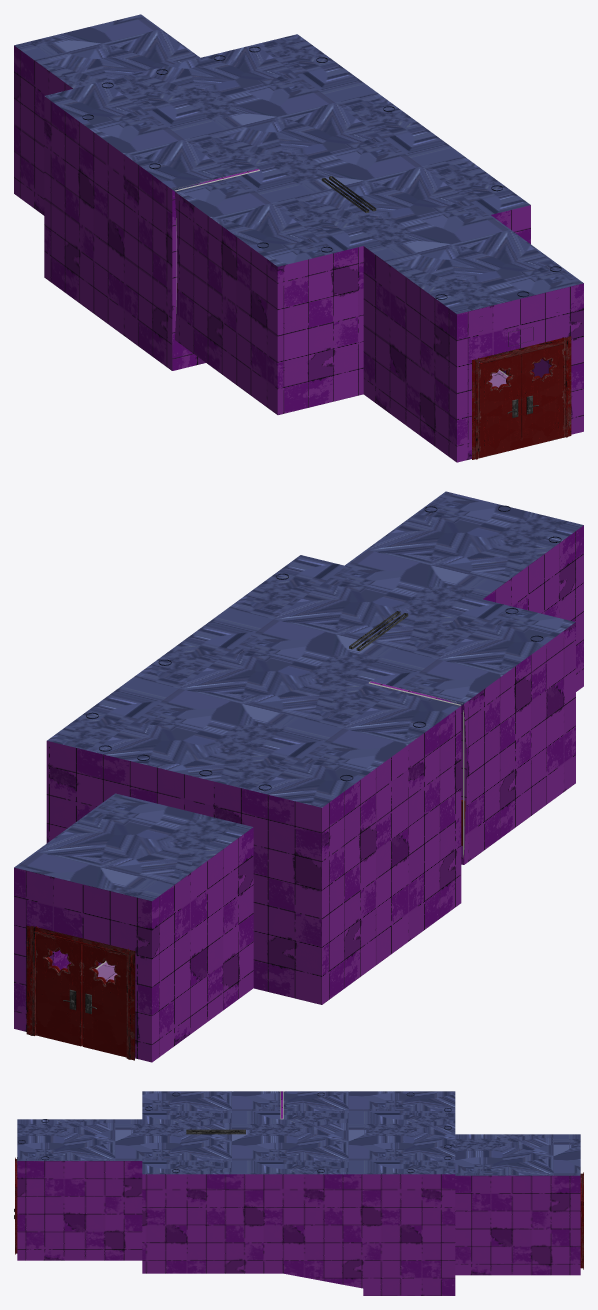
Rendered from Level7_P.fbx.
3 renders of one model, top to bottom at view 1: azimuth 30°, elevation 25°; view 2: azimuth 150°, elevation 25°; view 3: azimuth 270°, elevation 25°, orthographic. The views are drawn at different scales.
Visible parts, largest first — view 1: Wall, Roof, left, Right, Frame; view 2: Wall, Roof, Right, left, Frame; view 3: Wall, Roof, pasted__Body, Pipe1.
Part boxes in pixels (x1,y1,x2,y2): Wall: [14, 45, 583, 462]; Roof: [14, 14, 583, 313]; left: [479, 354, 521, 458]; Right: [521, 344, 563, 447]; Frame: [472, 336, 571, 459]; Wall: [14, 525, 583, 1062]; Roof: [14, 491, 583, 900]; Right: [36, 933, 82, 1046]; left: [82, 945, 126, 1057]; Frame: [26, 925, 135, 1060]; Wall: [17, 1091, 580, 1295]; Roof: [17, 1091, 580, 1175]; pasted__Body: [186, 1129, 245, 1134]; Pipe1: [18, 1092, 451, 1172].
Size of the model in its own units: 18.51 by 12.84 by 53.83.
